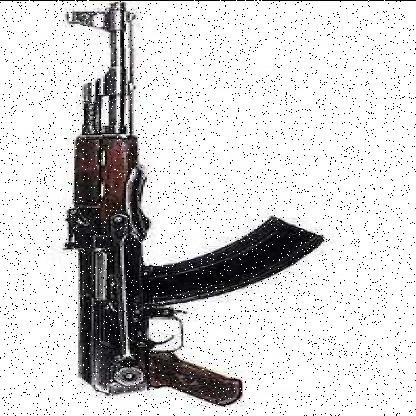rifle: (59, 2, 326, 399)
